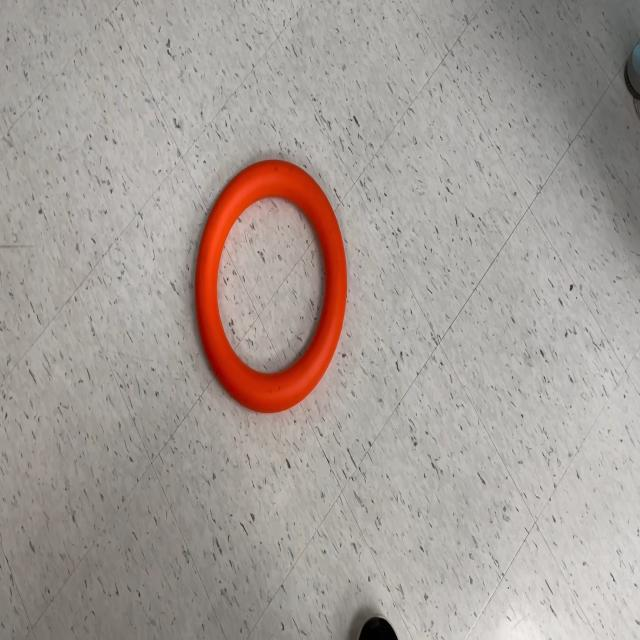note: (195, 158, 348, 413)
